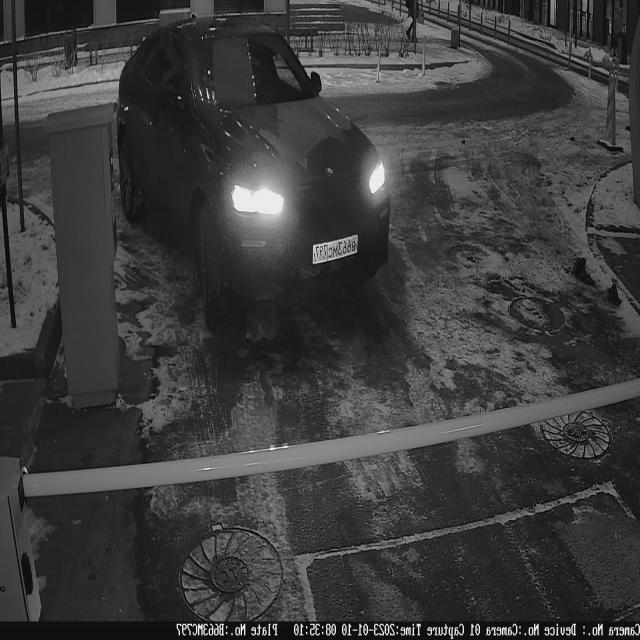car-plate-numbers: (310, 231, 362, 271)
